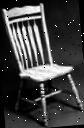Silla: (2, 1, 84, 127)
